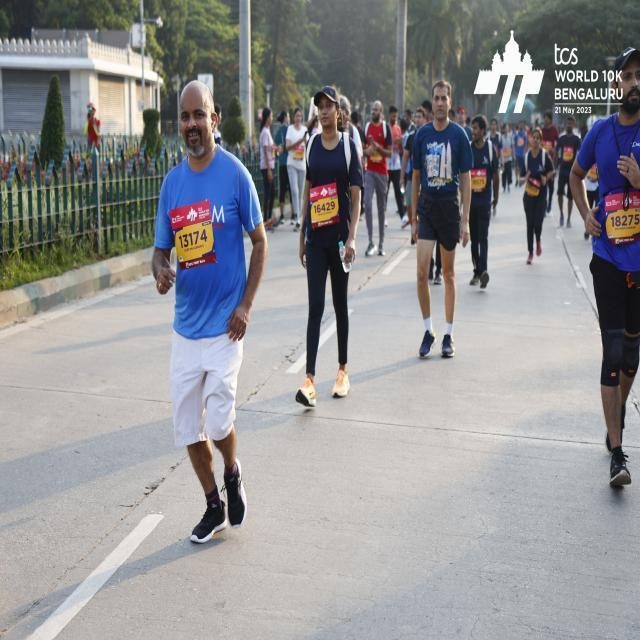dorsal: (168, 203, 216, 269), (604, 190, 640, 244), (308, 180, 341, 227)
